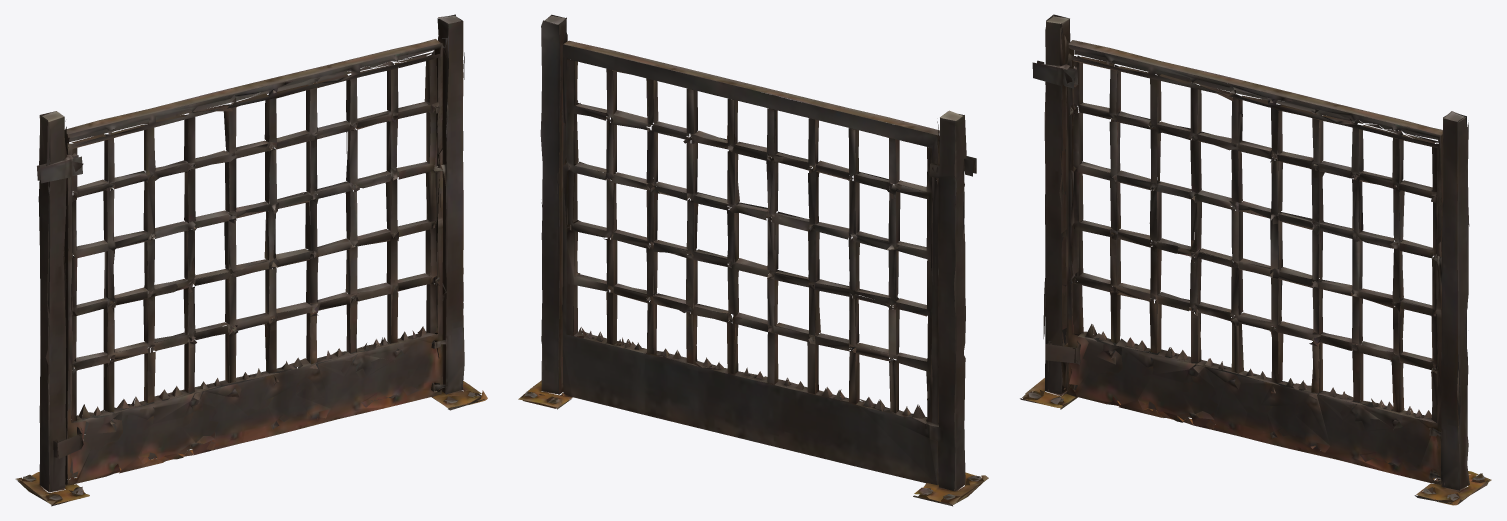
The model's file is portcullis.glb.
3 views of the same model, side by side, from view 1: azimuth 30°, elevation 25°; view 2: azimuth 150°, elevation 25°; view 3: azimuth 330°, elevation 25° (orthographic).
Visible parts, largest first — view 1: portcullis; view 2: portcullis; view 3: portcullis.
Boxes of the visible parts, box(x1,y1,x2,y2) form: portcullis: box(15, 14, 487, 506); portcullis: box(518, 14, 988, 506); portcullis: box(1020, 14, 1491, 505).
Bounding box in the file's own units: 1 × 0.8207 × 0.1487.
1 material, 1 textured.
